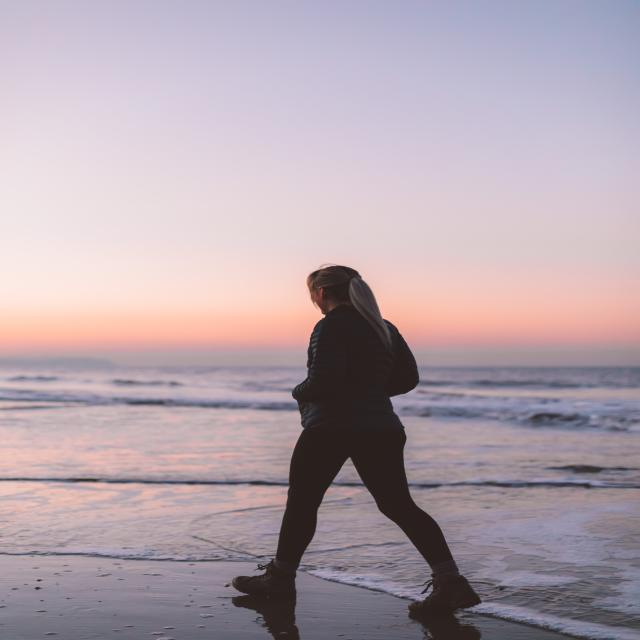standing: (225, 259, 494, 624)
